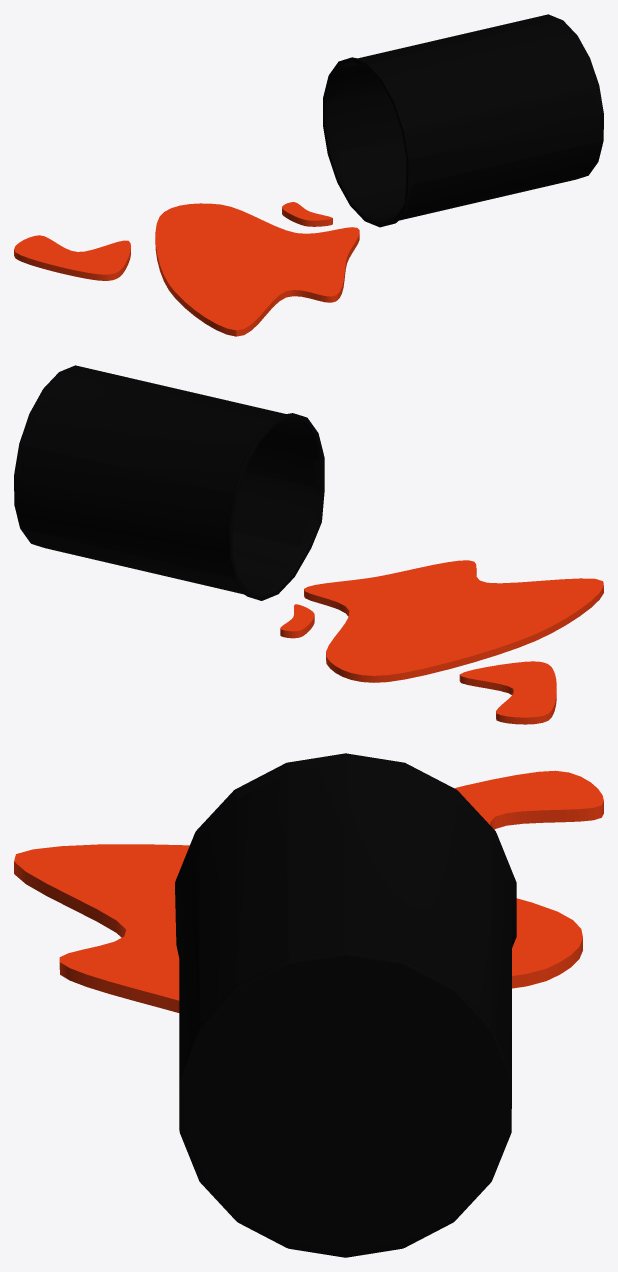
Rendered from EH ShortBeaker Spilt.fbx.
3 renders of one model, top to bottom at view 1: azimuth 30°, elevation 25°; view 2: azimuth 150°, elevation 25°; view 3: azimuth 270°, elevation 25°, orthographic. The views are drawn at different scales.
Visible parts, largest first — view 1: Squat Beaker001, Spilt liquid, Spilt liquid 2, Spilt liquid 1; view 2: Squat Beaker001, Spilt liquid, Spilt liquid 2, Spilt liquid 1; view 3: Squat Beaker001, Spilt liquid, Spilt liquid 2.
Boxes of the visible parts, bbox=[...] form: Squat Beaker001: bbox=[323, 14, 603, 227]; Spilt liquid: bbox=[155, 203, 359, 336]; Spilt liquid 2: bbox=[14, 235, 130, 280]; Spilt liquid 1: bbox=[282, 202, 332, 226]; Squat Beaker001: bbox=[14, 365, 324, 600]; Spilt liquid: bbox=[304, 560, 603, 682]; Spilt liquid 2: bbox=[459, 661, 556, 724]; Spilt liquid 1: bbox=[280, 604, 314, 638]; Squat Beaker001: bbox=[175, 753, 516, 1257]; Spilt liquid: bbox=[14, 844, 582, 1012]; Spilt liquid 2: bbox=[454, 770, 603, 829].
Size of the model in its own units: 82.92 by 25.72 by 42.84.
